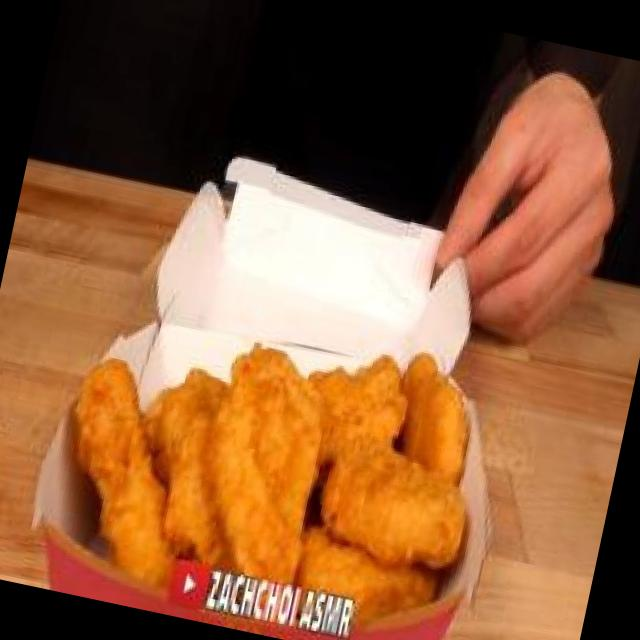nugget: (34, 257, 509, 640)
